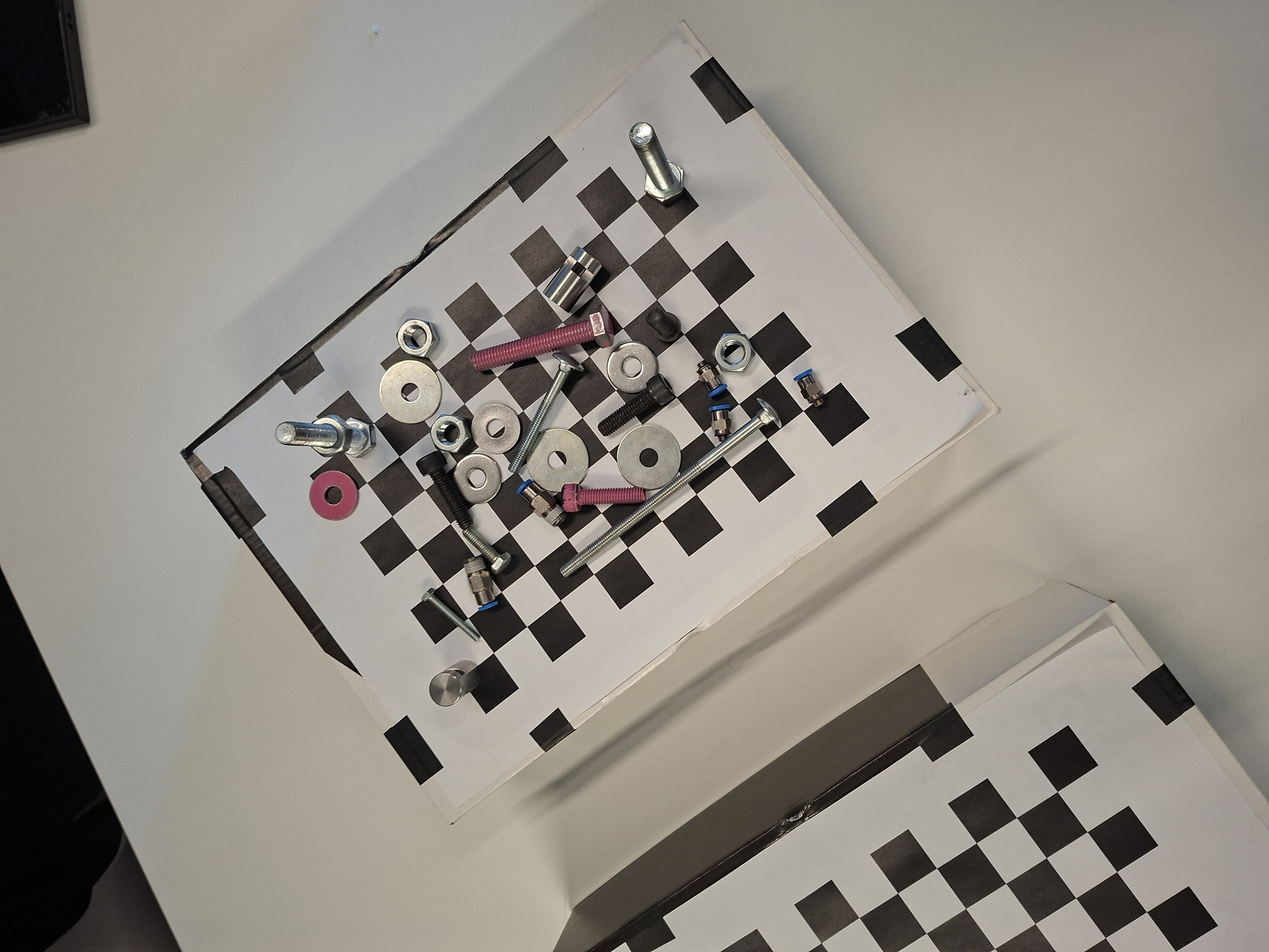allen_screw: (590, 369, 681, 444), (413, 444, 484, 535), (560, 480, 650, 514), (637, 301, 688, 349)
barrel_nut: (536, 239, 610, 318), (420, 651, 493, 715)
carriage_bolt: (547, 386, 795, 594), (494, 348, 591, 484)
hex_bolt: (464, 300, 621, 386), (611, 110, 696, 213), (269, 409, 379, 462), (419, 582, 487, 650), (455, 520, 522, 581)
hex_nut: (299, 407, 357, 465), (390, 312, 446, 363), (426, 408, 478, 458), (707, 330, 759, 377)
pneumatic_fitting: (510, 472, 575, 536), (458, 552, 505, 618), (785, 363, 835, 418), (688, 351, 733, 403), (704, 402, 735, 443)
washer: (508, 412, 601, 504), (369, 349, 455, 435), (607, 415, 690, 497), (448, 446, 510, 510), (305, 465, 360, 525), (605, 340, 660, 399), (468, 402, 526, 456)
